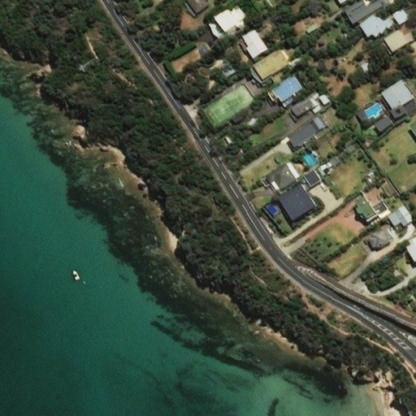ship: (66, 265, 90, 292)
